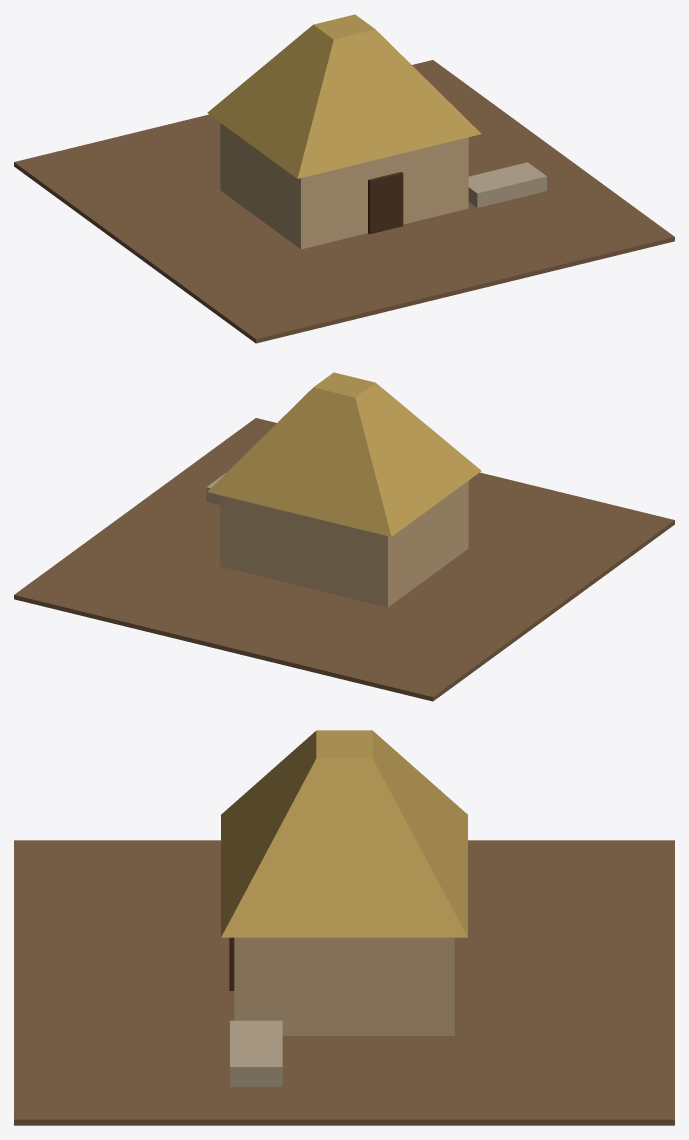
The model's file is bld_special_hospital_a01_lod2.glb.
The picture shows the model from 3 angles, top to bottom: view 1: azimuth 30°, elevation 25°; view 2: azimuth 150°, elevation 25°; view 3: azimuth 270°, elevation 25°; orthographic projection. The views are drawn at different scales.
Visible parts, largest first — view 1: body; view 2: body; view 3: body.
Part boxes in pixels (x1=…): body: x1=14, y1=14, x2=674, y2=343; body: x1=14, y1=372, x2=674, y2=701; body: x1=14, y1=730, x2=674, y2=1125.
Size of the model in its own units: 15 by 6.05 by 15.
